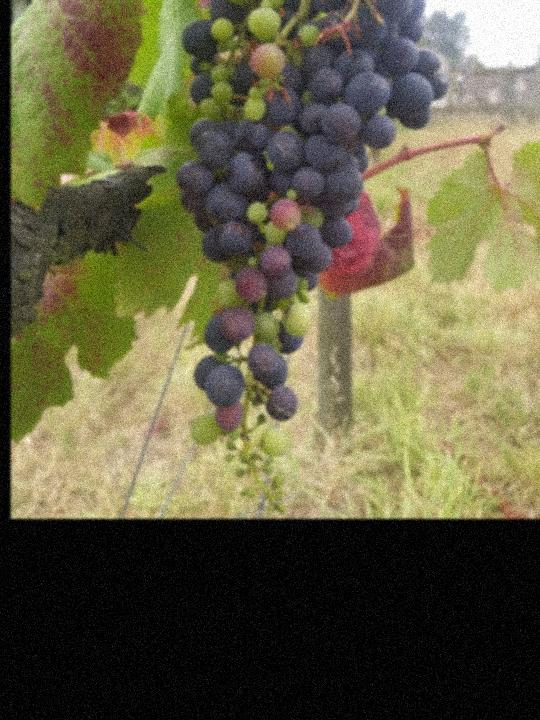grape: (175, 0, 454, 514)
